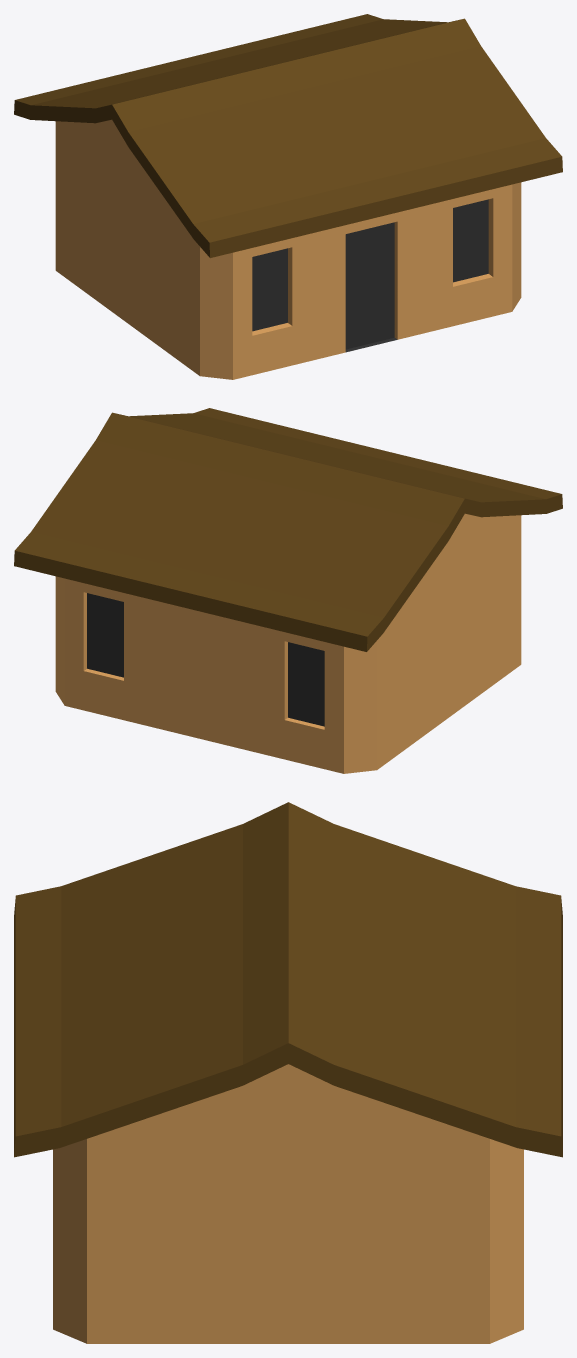
File: House.fbx
3 renders of one model, top to bottom at view 1: azimuth 30°, elevation 25°; view 2: azimuth 150°, elevation 25°; view 3: azimuth 270°, elevation 25°, orthographic. The views are drawn at different scales.
Parts seen in each view (by area): view 1: Cube.001, Cube; view 2: Cube.001, Cube; view 3: Cube.001, Cube.
Boxes of the visible parts, x1,y1,x2,y2 form: Cube.001: [14, 14, 562, 257]; Cube: [55, 119, 521, 379]; Cube.001: [14, 408, 562, 651]; Cube: [55, 513, 521, 773]; Cube.001: [14, 802, 562, 1157]; Cube: [53, 1064, 523, 1343].
Bounding box in the file's own units: 353 × 213 × 340.
